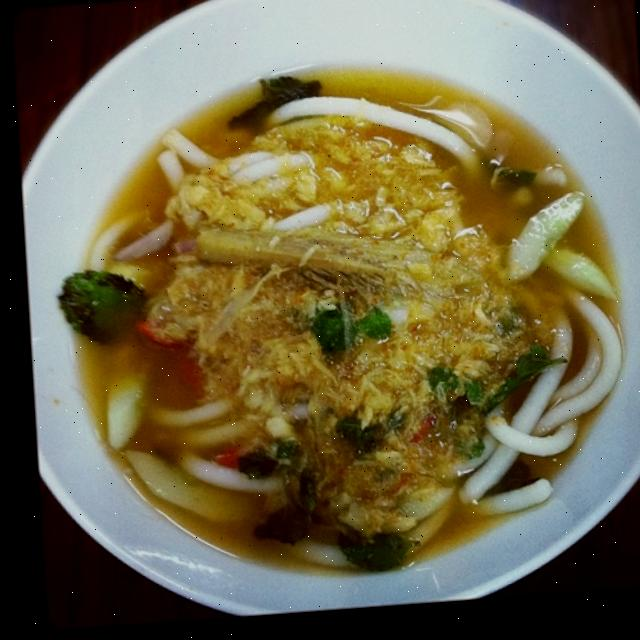面条主食: (24, 0, 640, 597)
